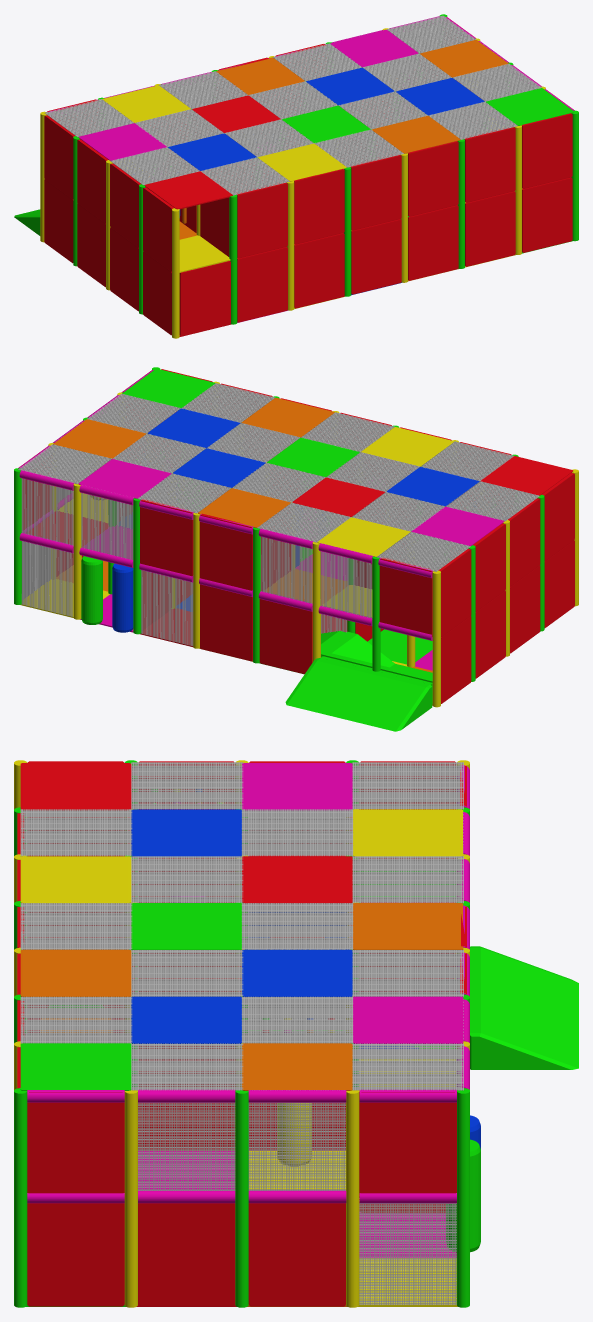
Rendered from Parque_Bolas_Unico_Entretenimiento_SIN_PARED.fbx.
The picture shows the model from 3 angles, top to bottom: view 1: azimuth 30°, elevation 25°; view 2: azimuth 150°, elevation 25°; view 3: azimuth 270°, elevation 25°; orthographic projection. The views are drawn at different scales.
Visible parts, largest first — view 1: Parque; view 2: Parque, Puerta.001, Puerta.002; view 3: Parque, Boxeo.002, Puerta.002.
Boxes of the visible parts, box(x1,y1,x2,y2) form: Parque: box(14, 14, 578, 338); Parque: box(14, 367, 578, 731); Puerta.001: box(112, 563, 133, 632); Puerta.002: box(81, 556, 102, 624); Parque: box(14, 760, 578, 1307); Boxeo.002: box(277, 1103, 311, 1166); Puerta.002: box(446, 1139, 480, 1252).
Bounding box in the file's own units: 2138 × 648 × 1531.
